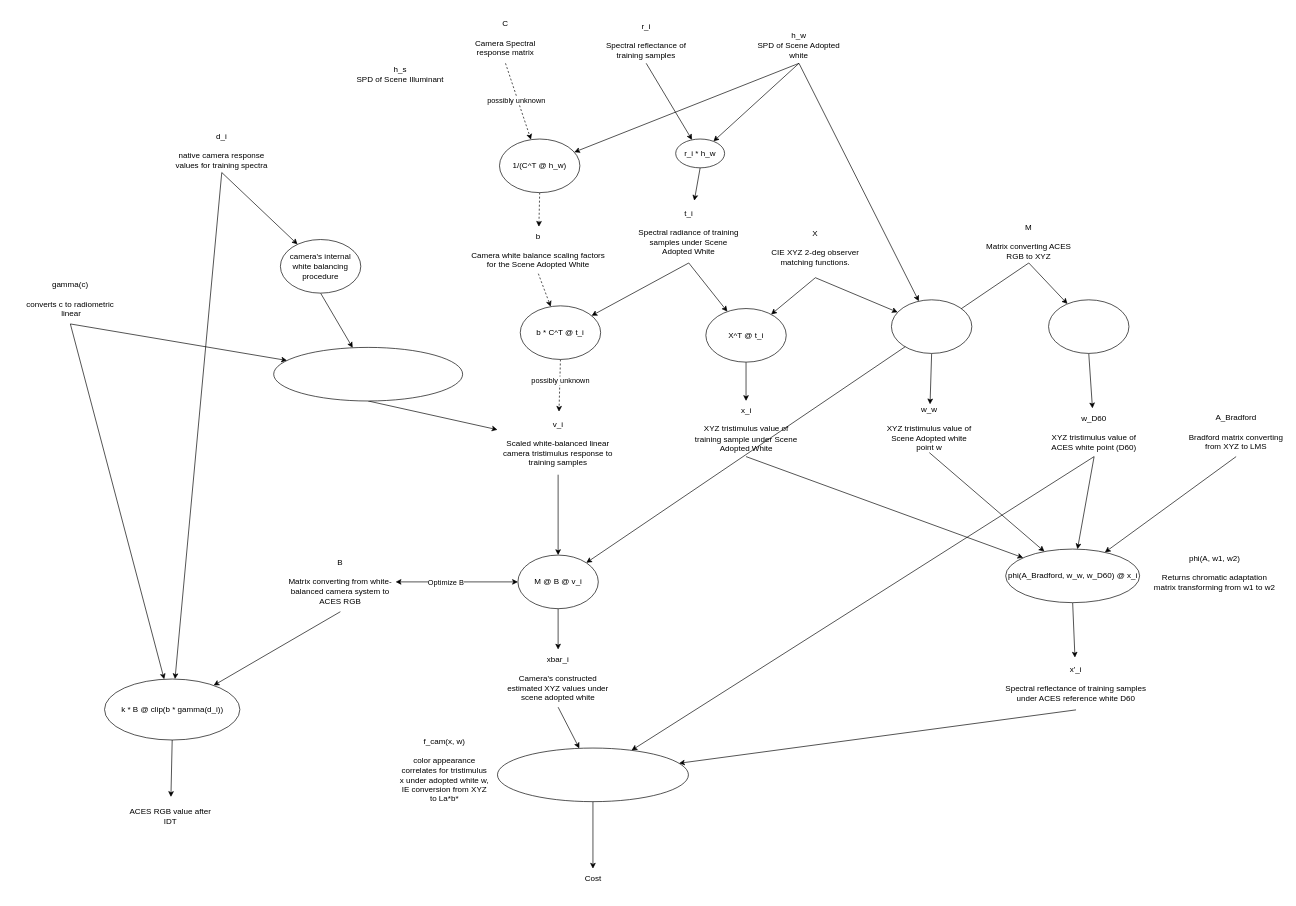
Image size: 1296x906. Some labels were removed from this diagram. The box of each missing label's shape, as (x1, y1, x2, y2) in pixels:
(gamma(WB(d_i)) - gamma(dark_current image)): (273, 347, 463, 401)
M @ [1]: (1048, 299, 1129, 353)
X^T @ h_w: (891, 299, 972, 353)
|| f_cam(x'_i, w_D60) - f_cam(xbar_i, w_D60) ||: (497, 747, 688, 802)
